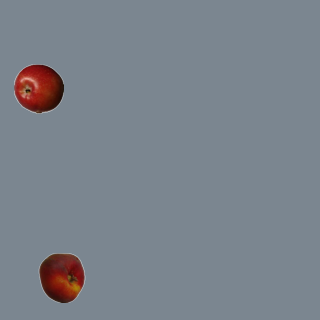Apple Braeburn: (13, 63, 63, 113)
Nectarine Flat: (36, 252, 86, 302)
